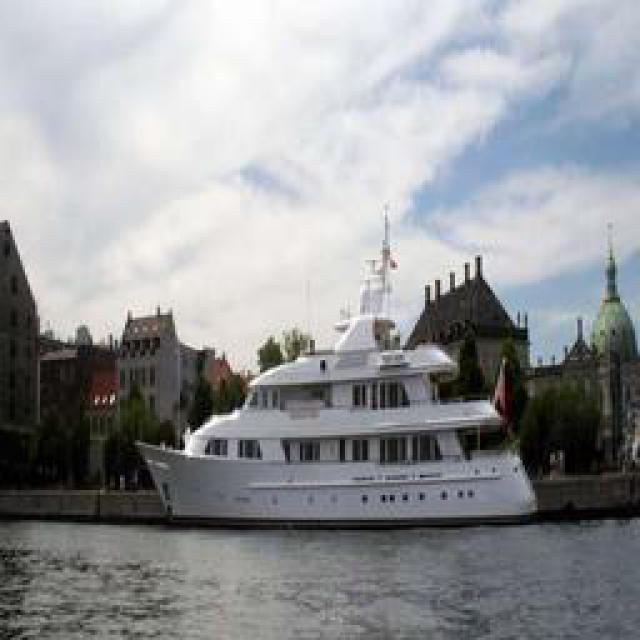Ship: (139, 221, 524, 529)
